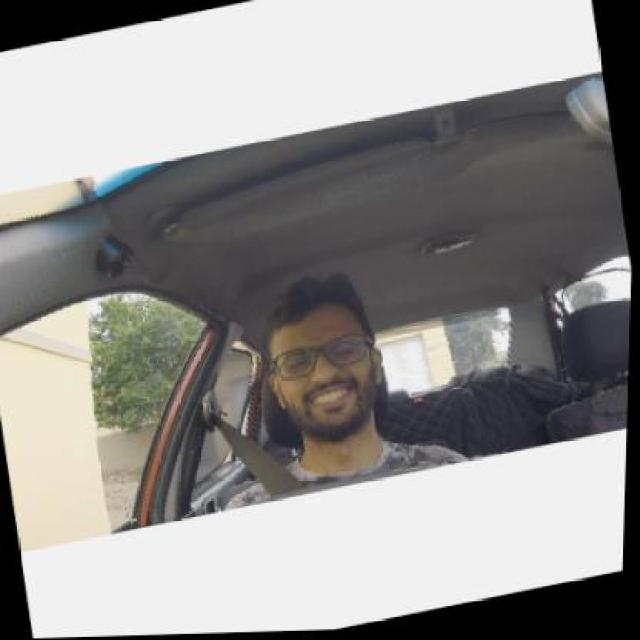drowsy: (266, 274, 388, 448)
